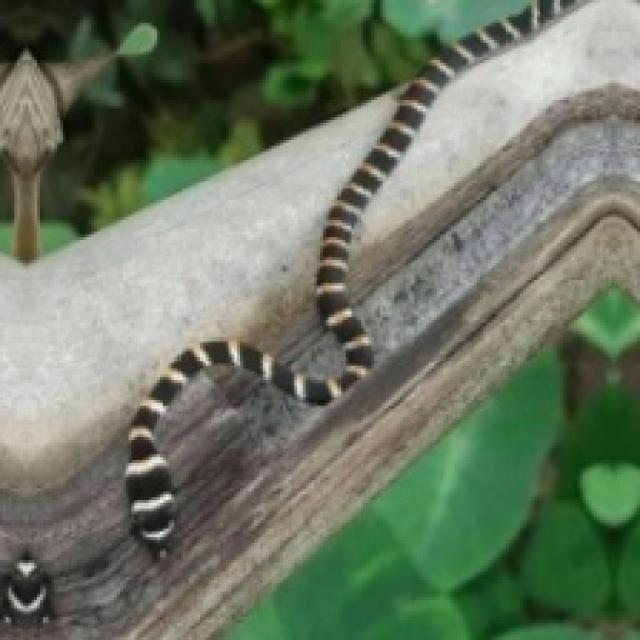paradise tree snake: (123, 3, 637, 637)
